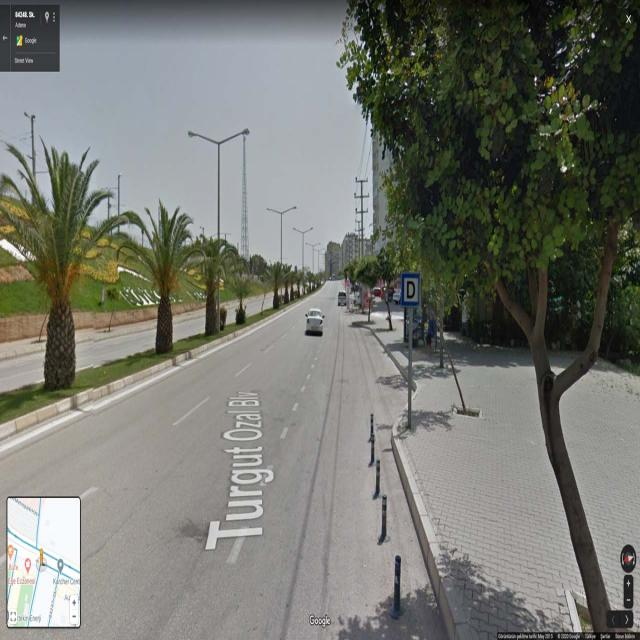durak: (402, 272, 420, 307)
